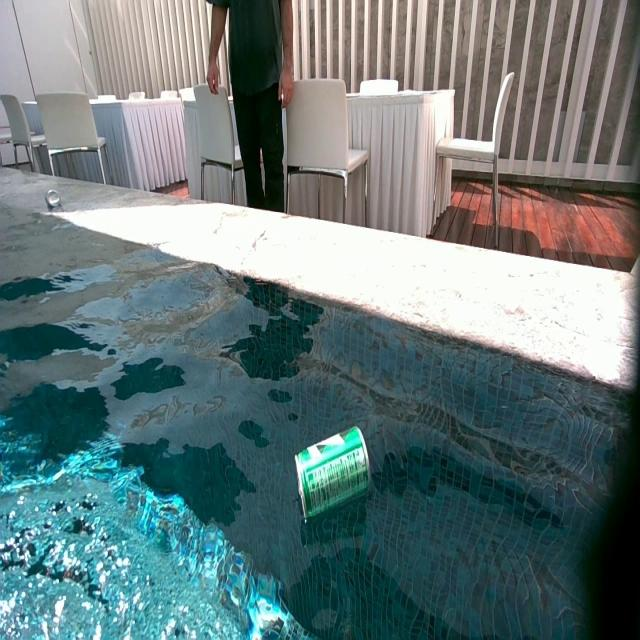Cans: (298, 424, 372, 519), (44, 188, 62, 208)
